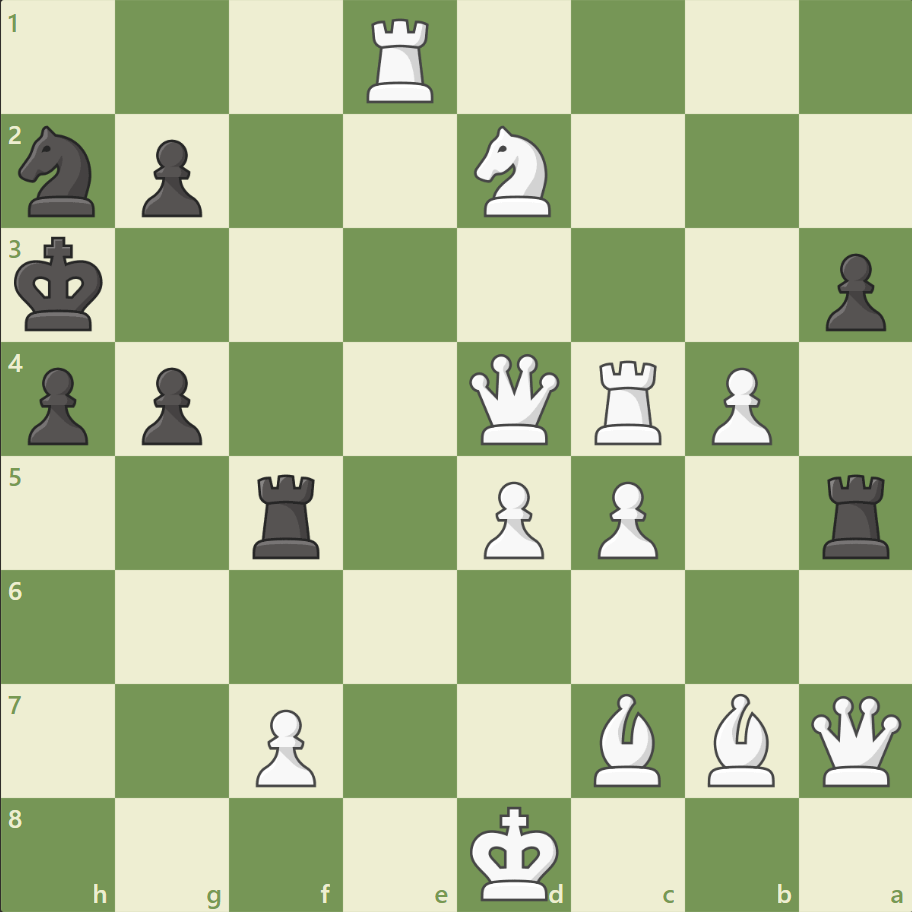B: (698, 687, 782, 790), (585, 687, 669, 790)
K: (465, 798, 565, 906)
N: (465, 121, 562, 223)
P: (247, 700, 322, 791), (474, 473, 549, 564), (701, 359, 776, 450), (588, 473, 662, 564)
Q: (464, 349, 563, 449), (805, 690, 904, 789)
R: (587, 352, 670, 449), (360, 12, 442, 109)
k: (11, 231, 111, 339)
n: (11, 121, 108, 223)
p: (133, 359, 208, 450), (20, 359, 95, 450), (133, 132, 208, 223), (815, 246, 889, 337)
r: (814, 466, 897, 563), (246, 466, 329, 563)
